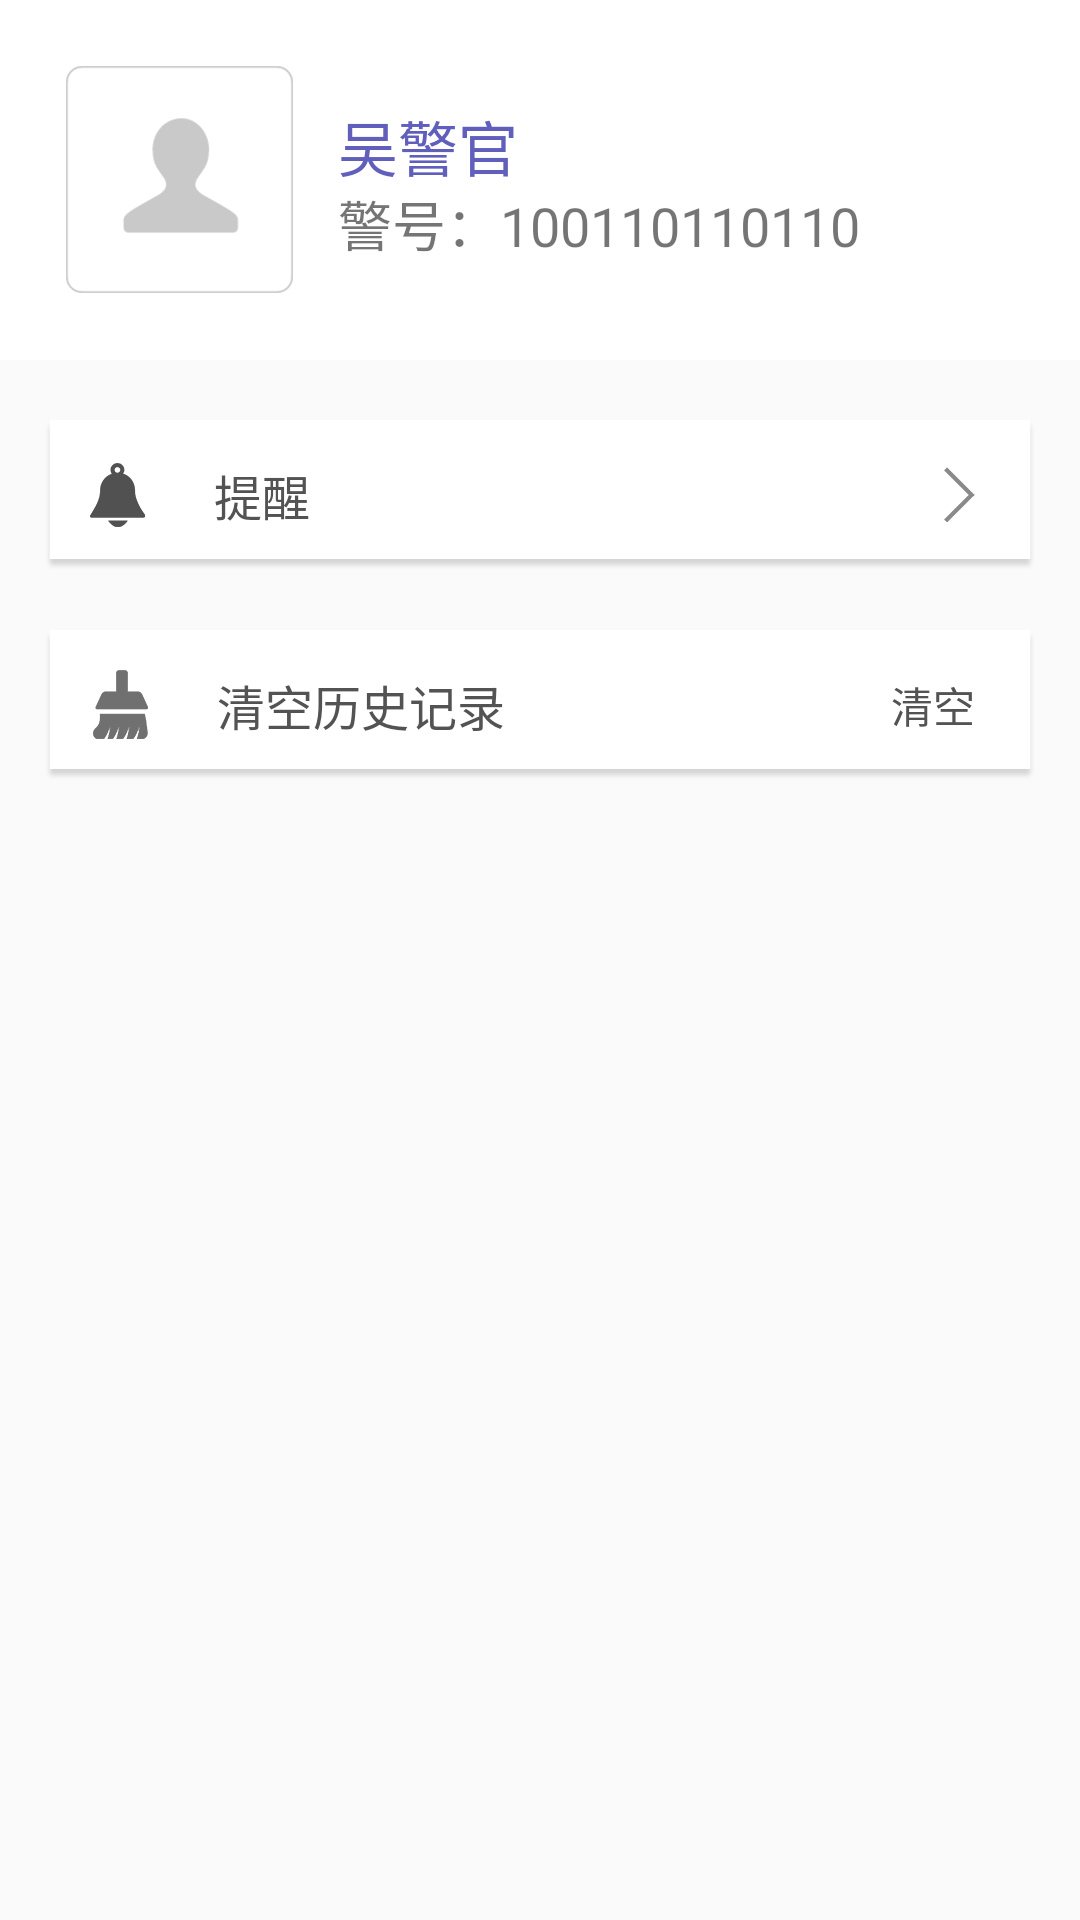

Screen size 1080×1920. Icon name, then its box in pixels as [x1, y1, x2, y2]:
tou: [66, 66, 293, 293]
txi: [90, 463, 145, 527]
